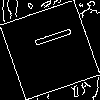I: (24, 25, 73, 53)
